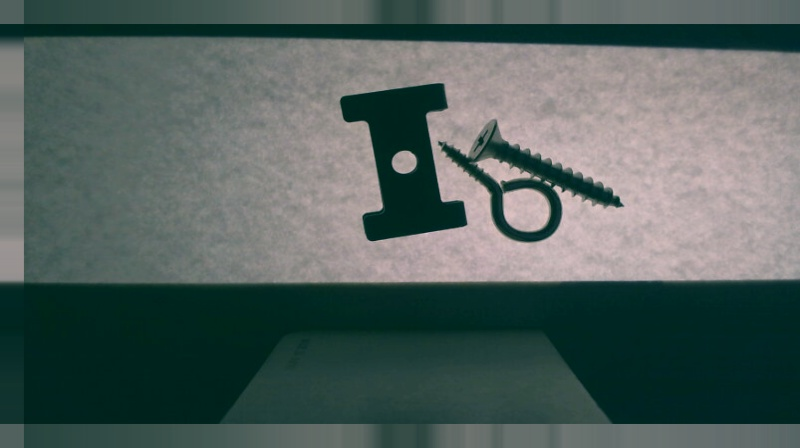O001: (435, 139, 563, 242)
O002: (338, 82, 467, 242)
S001: (466, 117, 627, 210)
